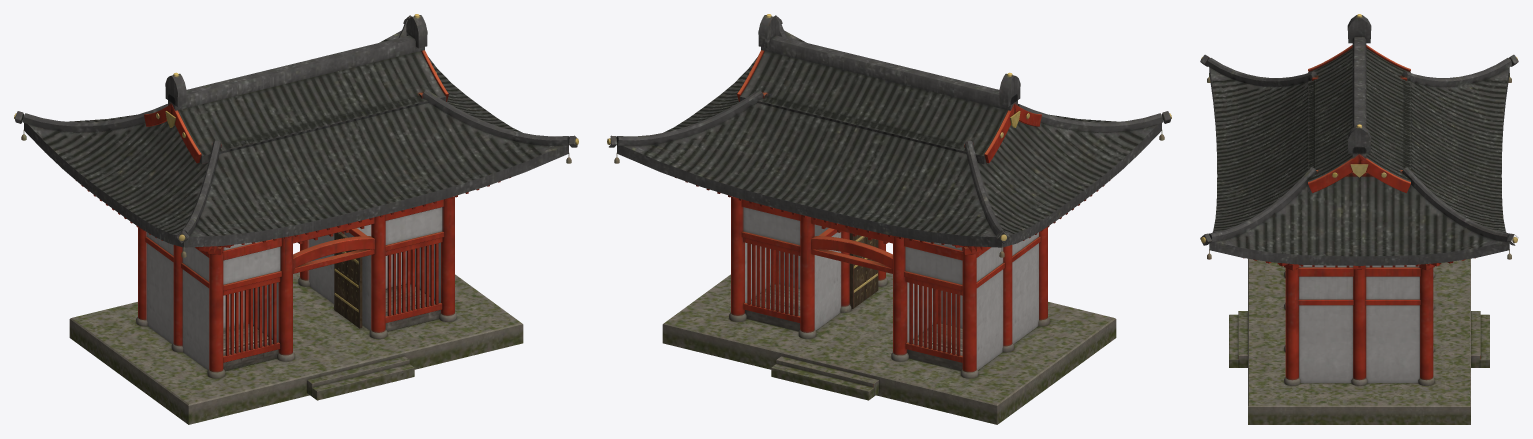
The model's file is shrine-gate.glb.
3 renders of one model, left to right at view 1: azimuth 30°, elevation 25°; view 2: azimuth 150°, elevation 25°; view 3: azimuth 270°, elevation 25°, orthographic. The views are drawn at different scales.
Visible parts, largest first — view 1: lod0; view 2: lod0; view 3: lod0.
Boxes of the visible parts, x1,y1,x2,y2 form: lod0: (14,14,578,424); lod0: (607,14,1171,424); lod0: (1200,14,1518,424).
Size of what is drawn, in the model's own units: 15.61 by 11.03 by 11.41.
Materials: 1 (1 with a texture image).
